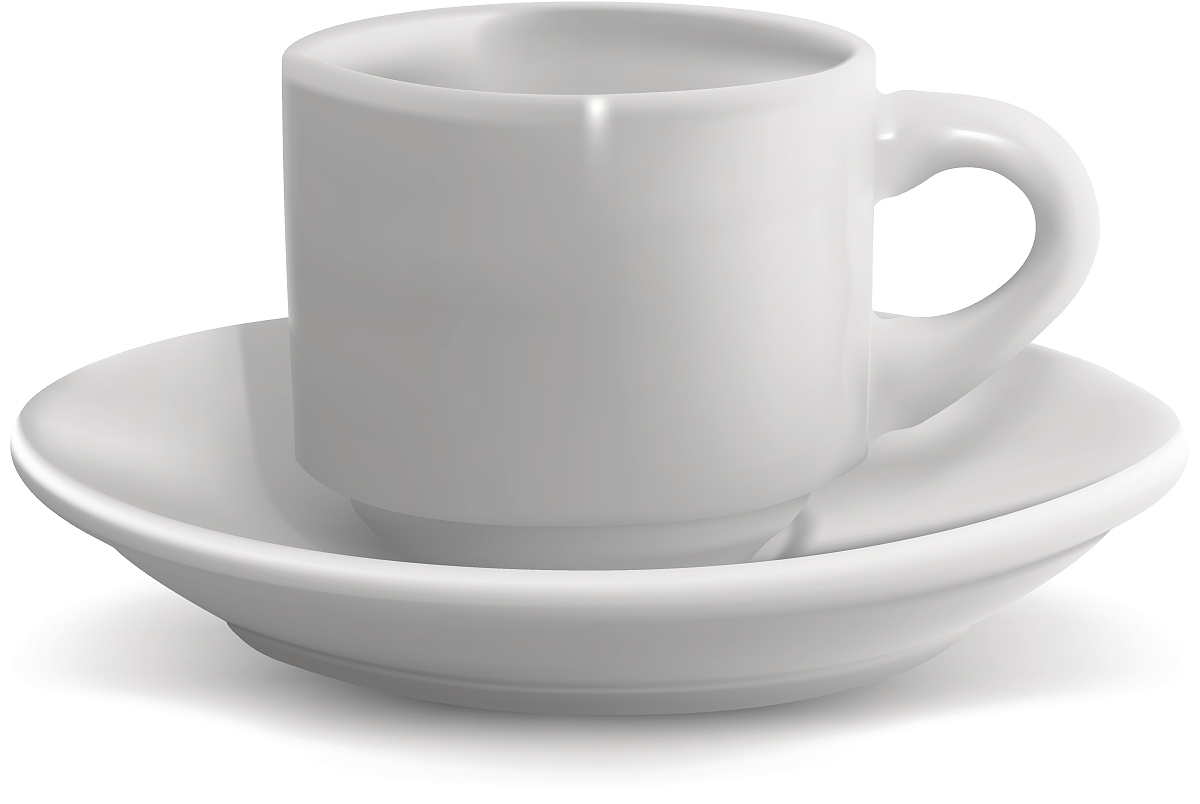cup: (275, 3, 1101, 568)
